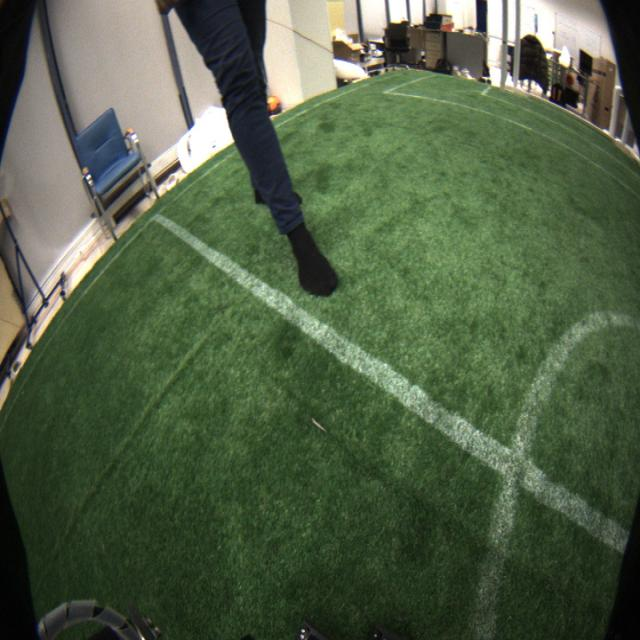goalpost: (498, 1, 508, 91)
